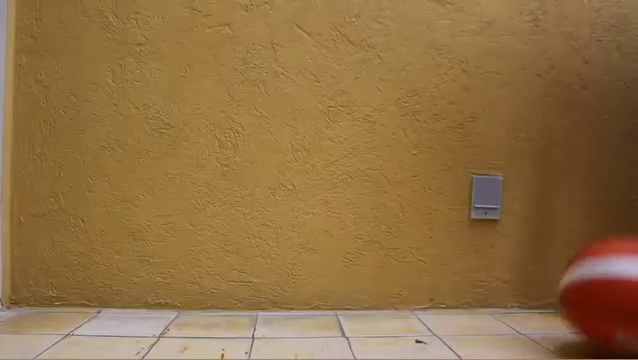ball: (554, 236, 638, 351)
